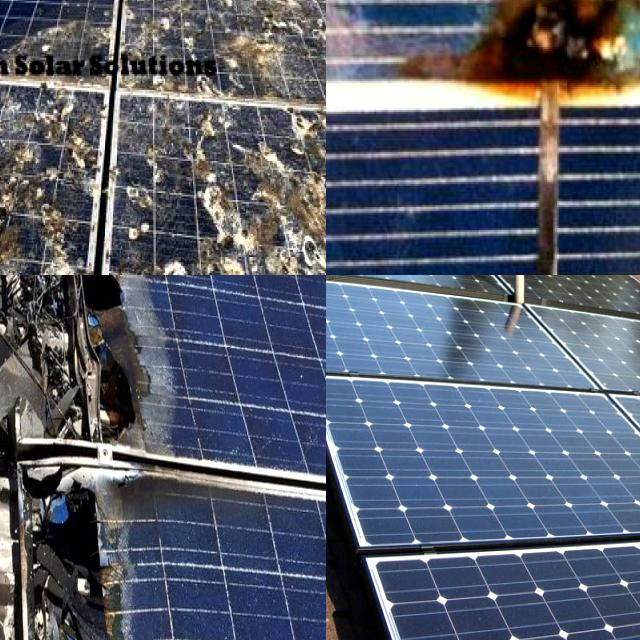bird: (241, 152, 326, 275), (0, 156, 43, 252), (0, 189, 62, 250), (245, 0, 311, 56), (0, 97, 55, 136)
crack: (326, 354, 640, 549), (326, 275, 604, 412), (353, 544, 640, 640), (530, 303, 640, 414), (326, 275, 521, 328), (426, 275, 607, 313)
shadow: (383, 0, 640, 275), (3, 275, 192, 458), (9, 466, 138, 640)
